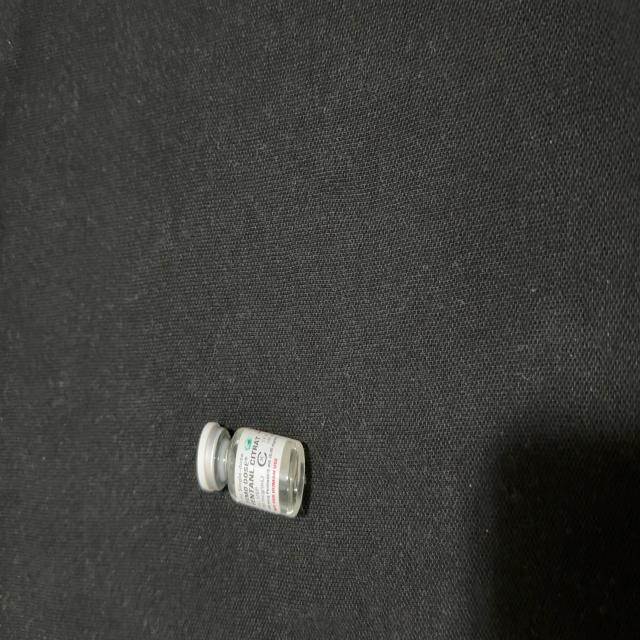fentanl_citrat: (198, 423, 306, 517)
